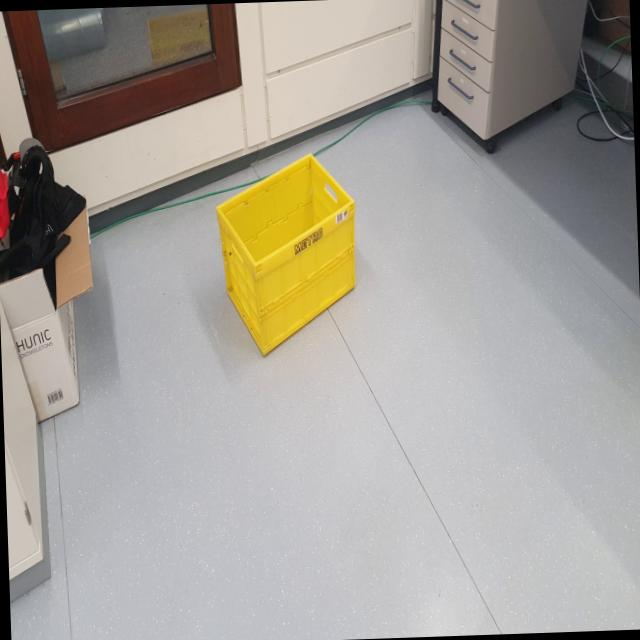box: (200, 144, 367, 386)
